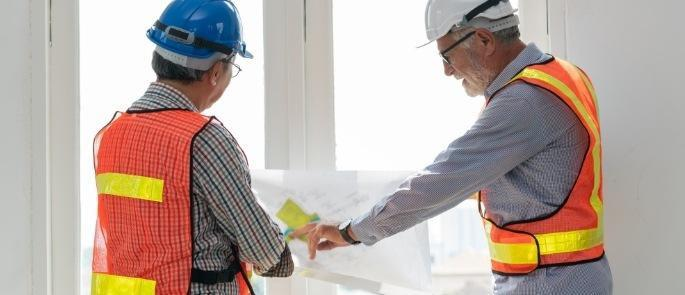hardhat: (141, 2, 256, 72), (414, 3, 524, 50)
worker: (289, 1, 617, 295), (91, 1, 297, 295)
